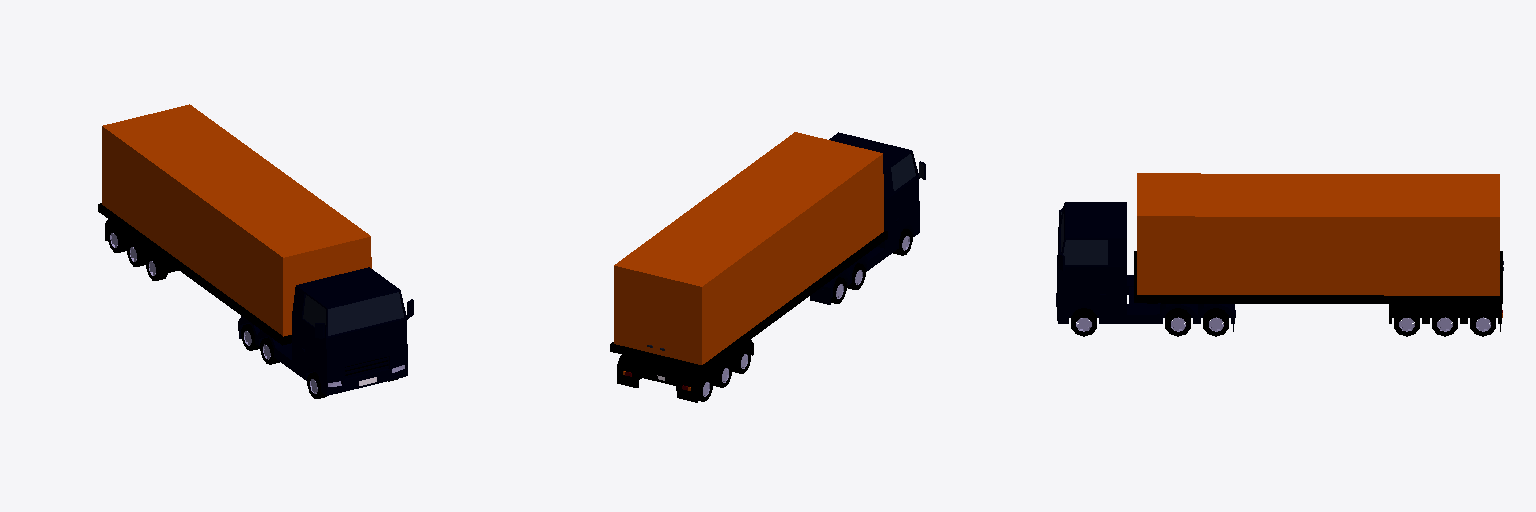
Rendered from truck_trailer.obj.
3 views of the same model, side by side, from view 1: azimuth 30°, elevation 25°; view 2: azimuth 150°, elevation 25°; view 3: azimuth 270°, elevation 25° (orthographic).
Visible parts, largest first — view 1: Truck_with_trailer; view 2: Truck_with_trailer; view 3: Truck_with_trailer.
Part boxes in pixels (bbox=[...]): Truck_with_trailer: bbox=[98, 104, 413, 398]; Truck_with_trailer: bbox=[610, 132, 925, 402]; Truck_with_trailer: bbox=[1056, 173, 1503, 336].
Bounding box in the file's own units: 3.41 × 4.05 × 13.42.